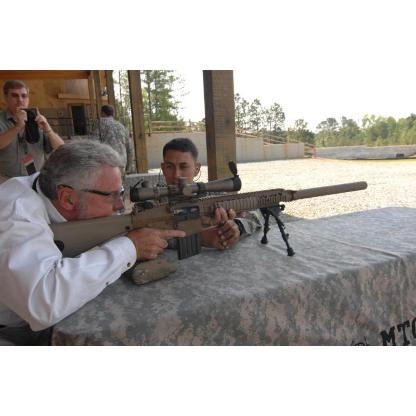gun: (49, 162, 366, 252)
